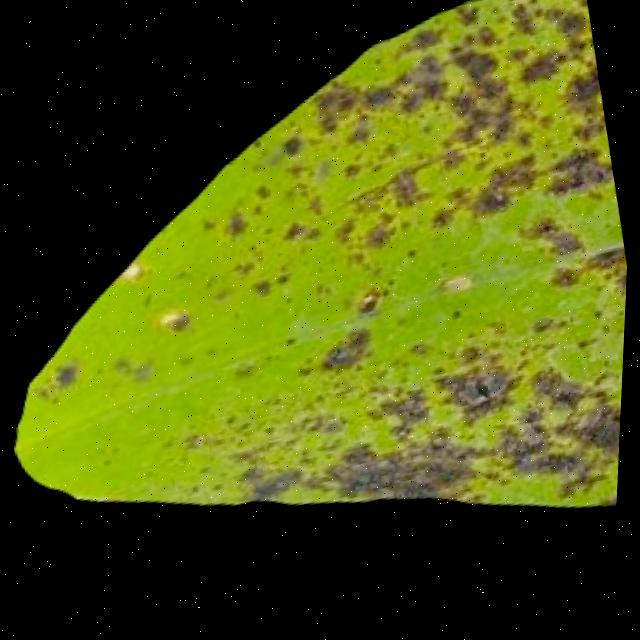mite: (437, 361, 524, 436), (303, 320, 387, 394), (317, 331, 378, 382), (458, 370, 517, 422), (349, 285, 395, 328), (154, 304, 201, 346), (114, 257, 155, 294), (278, 219, 323, 252), (219, 211, 252, 246), (464, 381, 497, 414), (160, 310, 195, 340), (53, 362, 84, 394), (355, 294, 387, 322), (120, 263, 149, 288), (279, 137, 304, 163), (252, 280, 274, 303)
